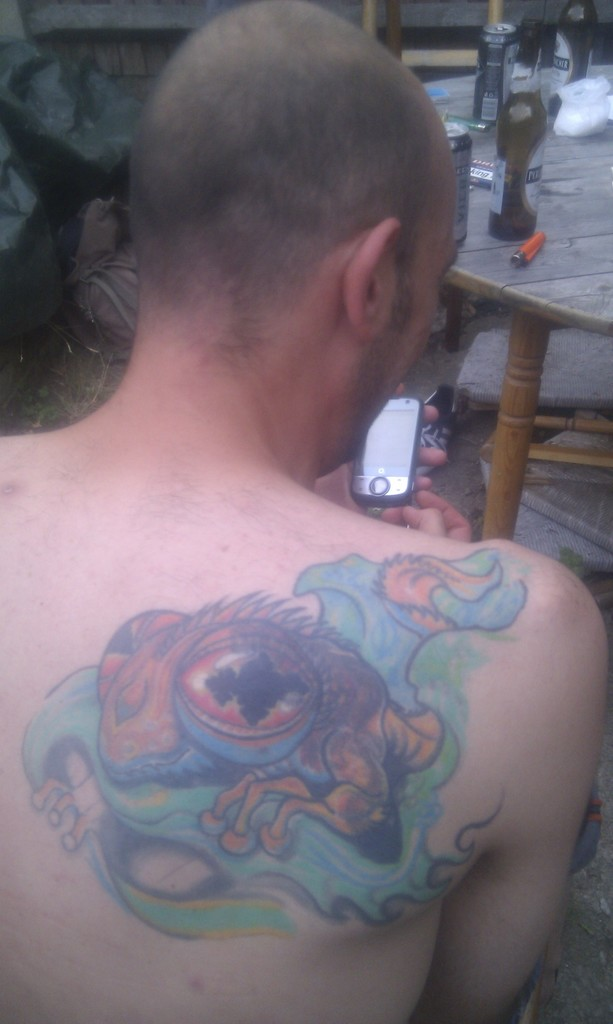Mobile-phone: (353, 396, 424, 510)
